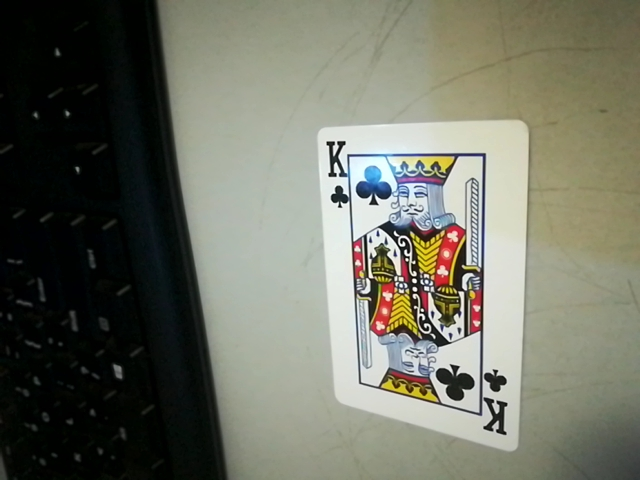mh k: (478, 369, 519, 443), (315, 137, 351, 198)
